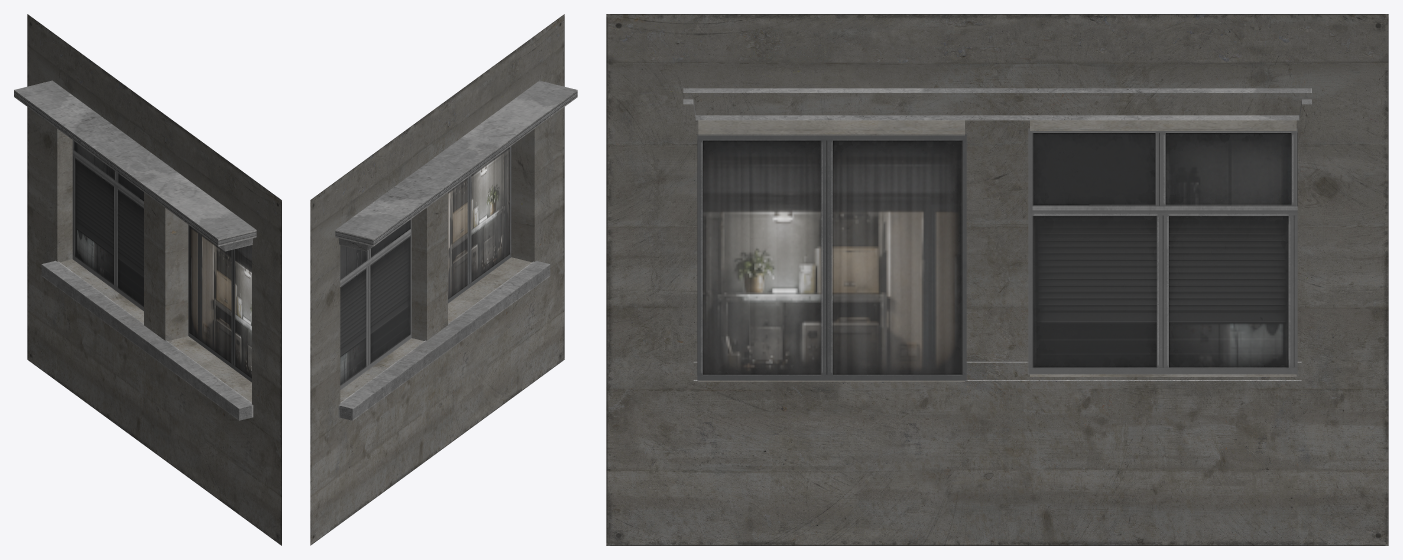
Rendered from CP_Windows_C_4x3m_02.fbx.
3 renders of one model, left to right at view 1: azimuth 30°, elevation 25°; view 2: azimuth 150°, elevation 25°; view 3: azimuth 270°, elevation 25°, orthographic. The views are drawn at different scales.
Visible parts, largest first — view 1: CP_Windows_C_4x3m_02; view 2: CP_Windows_C_4x3m_02; view 3: CP_Windows_C_4x3m_02.
Boxes of the visible parts, bbox=[...] form: CP_Windows_C_4x3m_02: bbox=[14, 14, 281, 545]; CP_Windows_C_4x3m_02: bbox=[310, 14, 577, 545]; CP_Windows_C_4x3m_02: bbox=[606, 14, 1388, 545].
Bounding box in the file's own units: 57.09 × 300 × 400.
